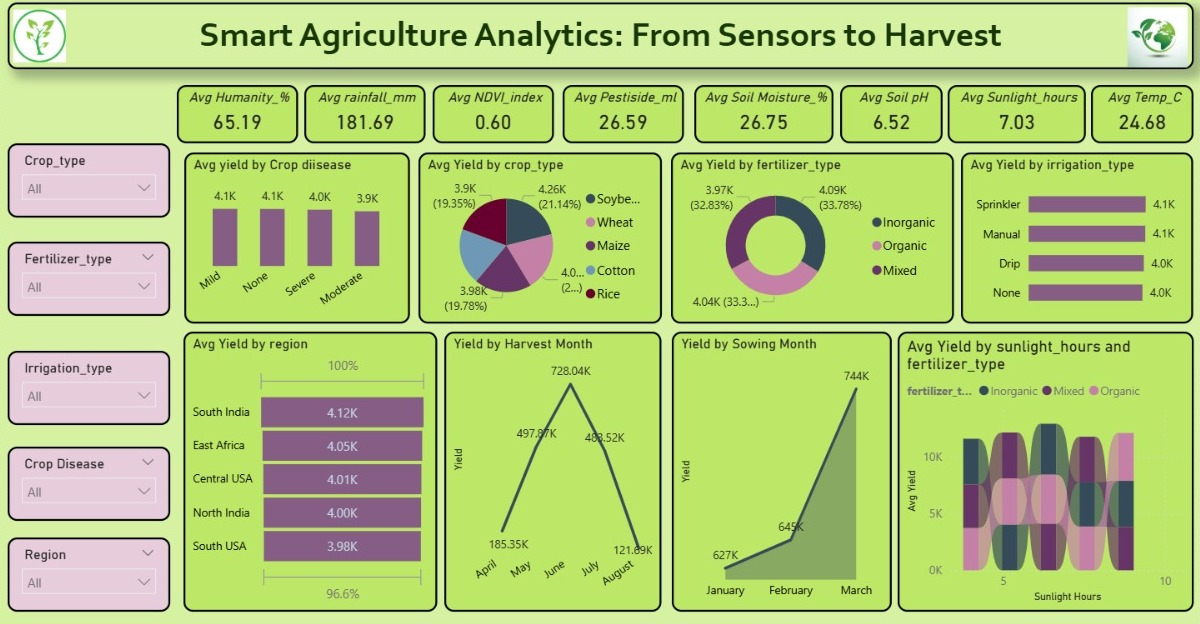

The dashboard page shown, as its layout file describes it:
{"tool":"powerbi","page":{"name":"Page 1","canvas":[1280,720],"ordinal":0},"visuals":[{"type":"textbox","box":[11.5,9.8,1261.8,70.9],"z":0},{"type":"card","title":"Avg Humanity_%","fields":{"Values":["Avg(Smart_Farming_Crop_Yield_2024.humidity_%)"]},"box":[191.5,97.5,128.6,62.1],"z":1000},{"type":"card","title":"Avg rainfall_mm","fields":{"Values":["Avg(Smart_Farming_Crop_Yield_2024.rainfall_mm)"]},"box":[327.2,97.5,128.6,62.1],"z":2000},{"type":"card","title":"Avg NDVI_index","fields":{"Values":["Avg(Smart_Farming_Crop_Yield_2024.NDVI_index)"]},"box":[463.7,97.5,128.6,62.1],"z":3000},{"type":"card","title":"Avg Pestiside_ml","fields":{"Values":["Avg(Smart_Farming_Crop_Yield_2024.pesticide_usage_ml)"]},"box":[602.1,97.5,128.6,62.1],"z":4000},{"type":"card","title":"Avg Soil Moisture_%","fields":{"Values":["Avg(Smart_Farming_Crop_Yield_2024.soil_moisture_%)"]},"box":[742.2,97.5,148.1,62.1],"z":5000},{"type":"card","title":"Avg Soil pH","fields":{"Values":["Avg(Smart_Farming_Crop_Yield_2024.soil_pH)"]},"box":[897.3,97.5,109.1,62.1],"z":6000},{"type":"card","title":"Avg Temp_C","fields":{"Values":["Avg(Smart_Farming_Crop_Yield_2024.temperature_C)"]},"box":[1164.2,97.5,109.1,62.1],"z":7000},{"type":"card","title":"Avg Sunlight_hours","fields":{"Values":["Avg(Smart_Farming_Crop_Yield_2024.sunlight_hours)"]},"box":[1011.7,97.5,147.2,62.1],"z":8000},{"type":"columnChart","title":"Avg yield by Crop diisease","fields":{"Y":["Avg(Smart_Farming_Crop_Yield_2024.yield_kg_per_hectare)"],"Category":["Smart_Farming_Crop_Yield_2024.crop_disease_status"]},"box":[199.5,169.4,240.3,181.8],"z":9000},{"type":"pieChart","fields":{"Y":["Smart_Farming_Crop_Yield_2024.Avg Yield"],"Category":["Smart_Farming_Crop_Yield_2024.crop_type"]},"box":[448.7,169.4,258.9,181.8],"z":10000},{"type":"donutChart","fields":{"Y":["Smart_Farming_Crop_Yield_2024.Avg Yield"],"Category":["Smart_Farming_Crop_Yield_2024.fertilizer_type"]},"box":[717.3,169.4,300.6,181.8],"z":11000},{"type":"clusteredBarChart","fields":{"Category":["Smart_Farming_Crop_Yield_2024.irrigation_type"],"Y":["Smart_Farming_Crop_Yield_2024.Avg Yield"]},"box":[1025.9,169.4,247.4,181.8],"z":12000},{"type":"funnel","fields":{"Y":["Smart_Farming_Crop_Yield_2024.Avg Yield"],"Category":["Smart_Farming_Crop_Yield_2024.region"]},"box":[198.6,360,270.4,297.9],"z":13000},{"type":"lineChart","title":" Yield by Harvest Month","fields":{"Y":["Sum(Smart_Farming_Crop_Yield_2024.yield_kg_per_hectare)"],"Category":["Smart_Farming_Crop_Yield_2024.harvest_date.Variation.Date Hierarchy.Month"]},"box":[476.2,360,231.4,297.9],"z":14000},{"type":"areaChart","title":" Yield by Sowing Month","fields":{"Y":["Sum(Smart_Farming_Crop_Yield_2024.yield_kg_per_hectare)"],"Category":["Smart_Farming_Crop_Yield_2024.sowing_date.Variation.Date Hierarchy.Month"]},"box":[718.2,360,234.1,297.9],"z":15000},{"type":"ribbonChart","title":"Avg Yield by sunlight_hours and fertilizer_type","fields":{"Y":["Smart_Farming_Crop_Yield_2024.Avg Yield"],"Category":["Smart_Farming_Crop_Yield_2024.sunlight_hours (bins)"],"Series":["Smart_Farming_Crop_Yield_2024.fertilizer_type"]},"box":[958.5,360,314.8,297.9],"z":16000},{"type":"slicer","fields":{"Values":["Smart_Farming_Crop_Yield_2024.crop_type"]},"box":[11.5,159.6,172.9,78.9],"z":17000},{"type":"slicer","fields":{"Values":["Smart_Farming_Crop_Yield_2024.fertilizer_type"]},"box":[11.5,264.2,172.9,78.9],"z":18000},{"type":"slicer","fields":{"Values":["Smart_Farming_Crop_Yield_2024.irrigation_type"]},"box":[11.5,380.4,172.9,78.9],"z":19000},{"type":"slicer","fields":{"Values":["Smart_Farming_Crop_Yield_2024.crop_disease_status"]},"box":[11.5,482.4,172.9,78.9],"z":20000},{"type":"slicer","fields":{"Values":["Smart_Farming_Crop_Yield_2024.region"]},"box":[11.5,579,172.9,78.9],"z":21000},{"type":"image","box":[11.5,12.4,68.3,65.6],"z":22000},{"type":"image","box":[1197,9.8,76.3,73.6],"z":23000}]}

Visuals, with their boxes on the page's 1280x720 design canvas (x1, y1, x2, y2). These are canvas units, not pixel positions in the 1200x624 screenshot, which may show the page scaled, cropped or inside an application window:
textbox: 12, 10, 1273, 81
"Avg Humanity_%" card: 192, 98, 320, 160
"Avg rainfall_mm" card: 327, 98, 456, 160
"Avg NDVI_index" card: 464, 98, 592, 160
"Avg Pestiside_ml" card: 602, 98, 731, 160
"Avg Soil Moisture_%" card: 742, 98, 890, 160
"Avg Soil pH" card: 897, 98, 1006, 160
"Avg Temp_C" card: 1164, 98, 1273, 160
"Avg Sunlight_hours" card: 1012, 98, 1159, 160
"Avg yield by Crop diisease" columnChart: 200, 169, 440, 351
pieChart - Smart_Farming_Crop_Yield_2024.Avg Yield x Smart_Farming_Crop_Yield_2024.crop_type: 449, 169, 708, 351
donutChart - Smart_Farming_Crop_Yield_2024.Avg Yield x Smart_Farming_Crop_Yield_2024.fertilizer_type: 717, 169, 1018, 351
clusteredBarChart - Smart_Farming_Crop_Yield_2024.irrigation_type x Smart_Farming_Crop_Yield_2024.Avg Yield: 1026, 169, 1273, 351
funnel - Smart_Farming_Crop_Yield_2024.Avg Yield x Smart_Farming_Crop_Yield_2024.region: 199, 360, 469, 658
" Yield by Harvest Month" lineChart: 476, 360, 708, 658
" Yield by Sowing Month" areaChart: 718, 360, 952, 658
"Avg Yield by sunlight_hours and fertilizer_type" ribbonChart: 958, 360, 1273, 658
slicer - Smart_Farming_Crop_Yield_2024.crop_type: 12, 160, 184, 238
slicer - Smart_Farming_Crop_Yield_2024.fertilizer_type: 12, 264, 184, 343
slicer - Smart_Farming_Crop_Yield_2024.irrigation_type: 12, 380, 184, 459
slicer - Smart_Farming_Crop_Yield_2024.crop_disease_status: 12, 482, 184, 561
slicer - Smart_Farming_Crop_Yield_2024.region: 12, 579, 184, 658
image: 12, 12, 80, 78
image: 1197, 10, 1273, 83
